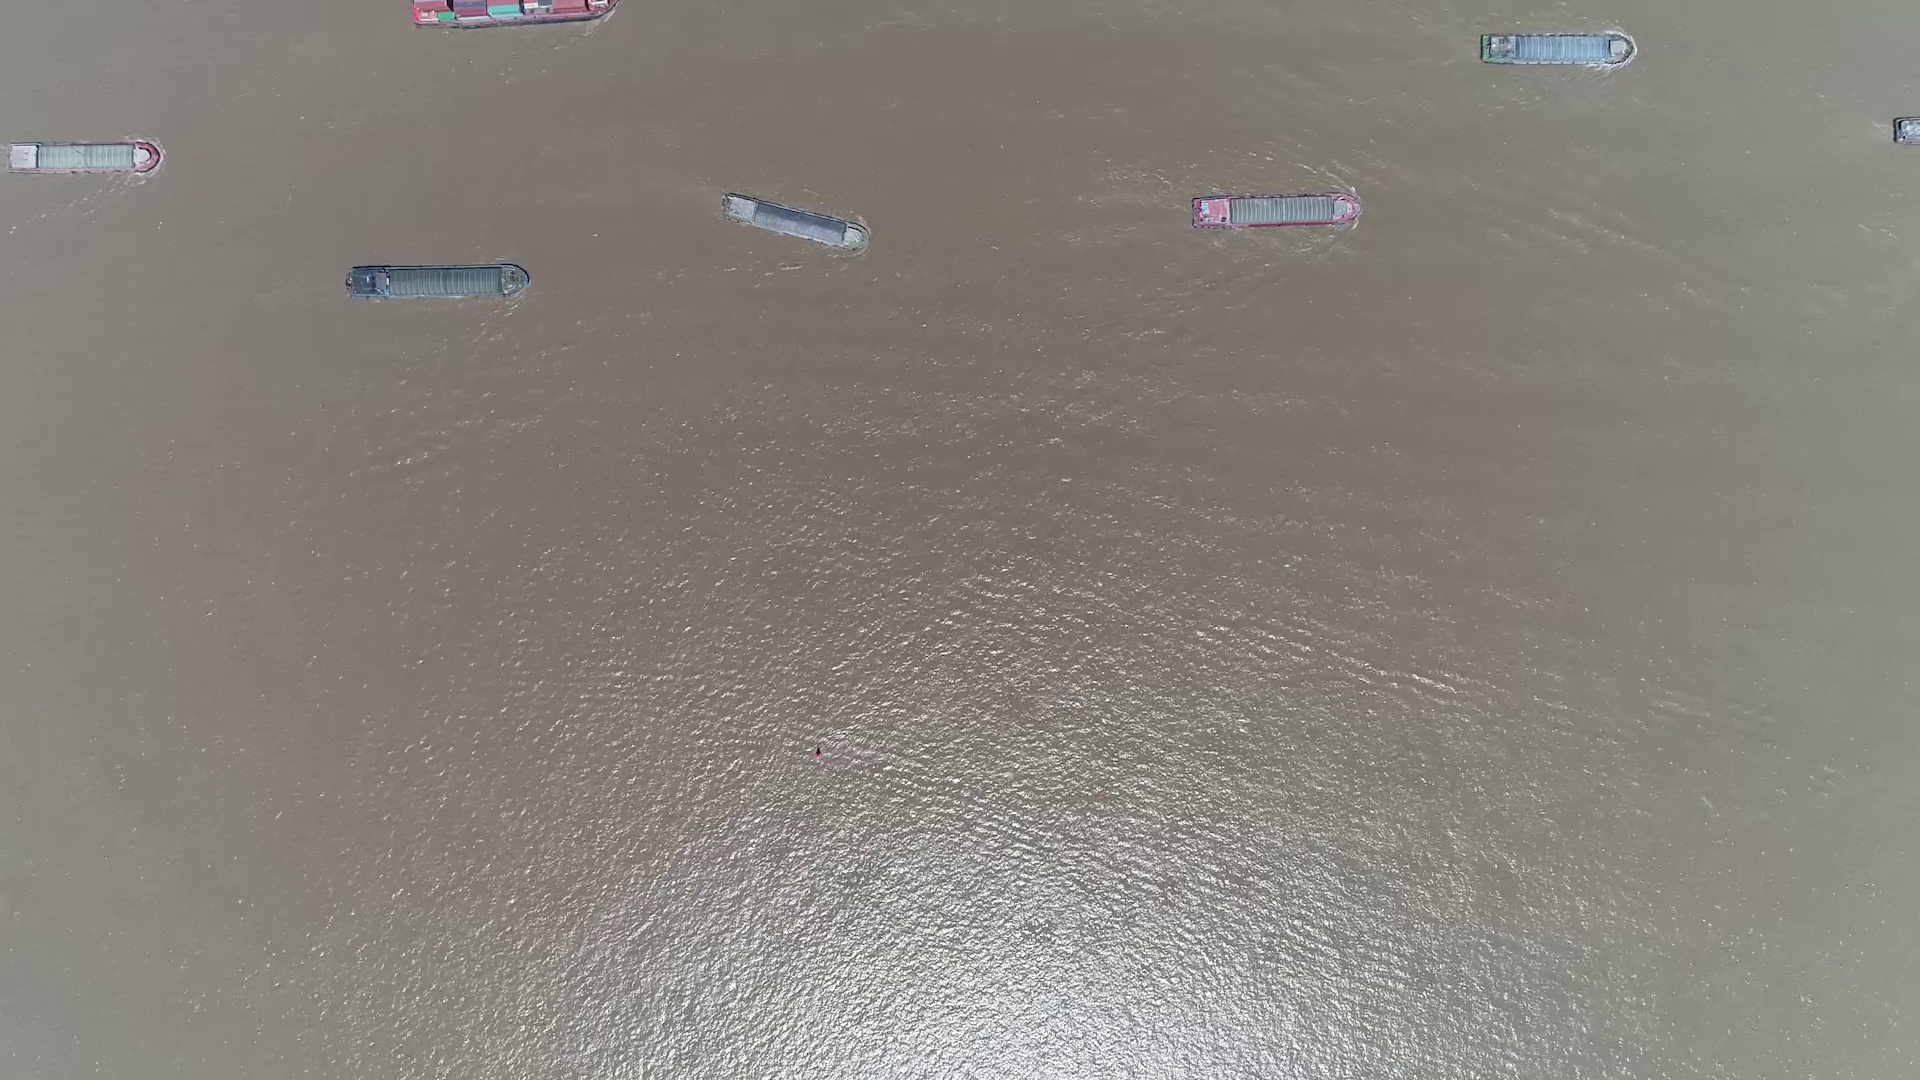ship: (720, 193, 866, 251), (345, 264, 527, 302), (1189, 193, 1362, 229), (411, 0, 613, 28), (1478, 34, 1631, 67), (5, 141, 161, 171)
